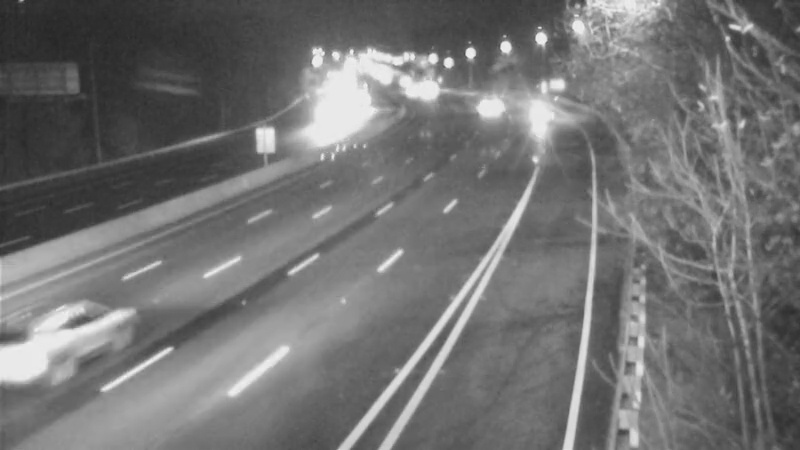vehicle: (1, 290, 110, 400), (384, 69, 434, 119), (399, 71, 449, 121), (462, 83, 512, 133), (517, 84, 567, 134)
